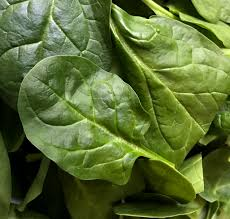spinach: (11, 12, 182, 179)
